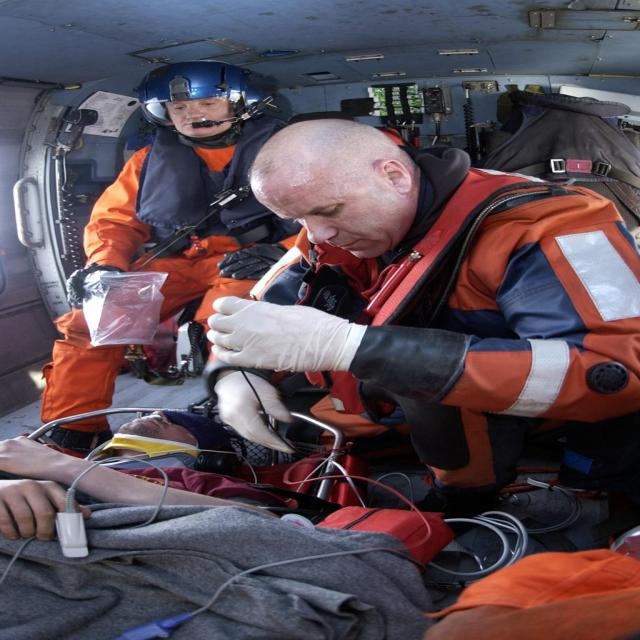nomask: (268, 183, 392, 261), (164, 81, 226, 141)
